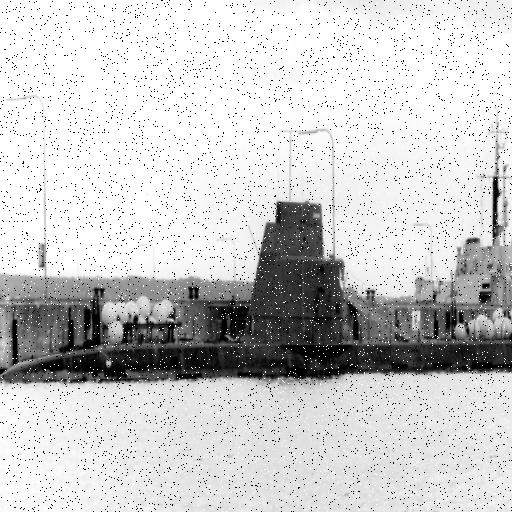submarine: (1, 192, 512, 385)
